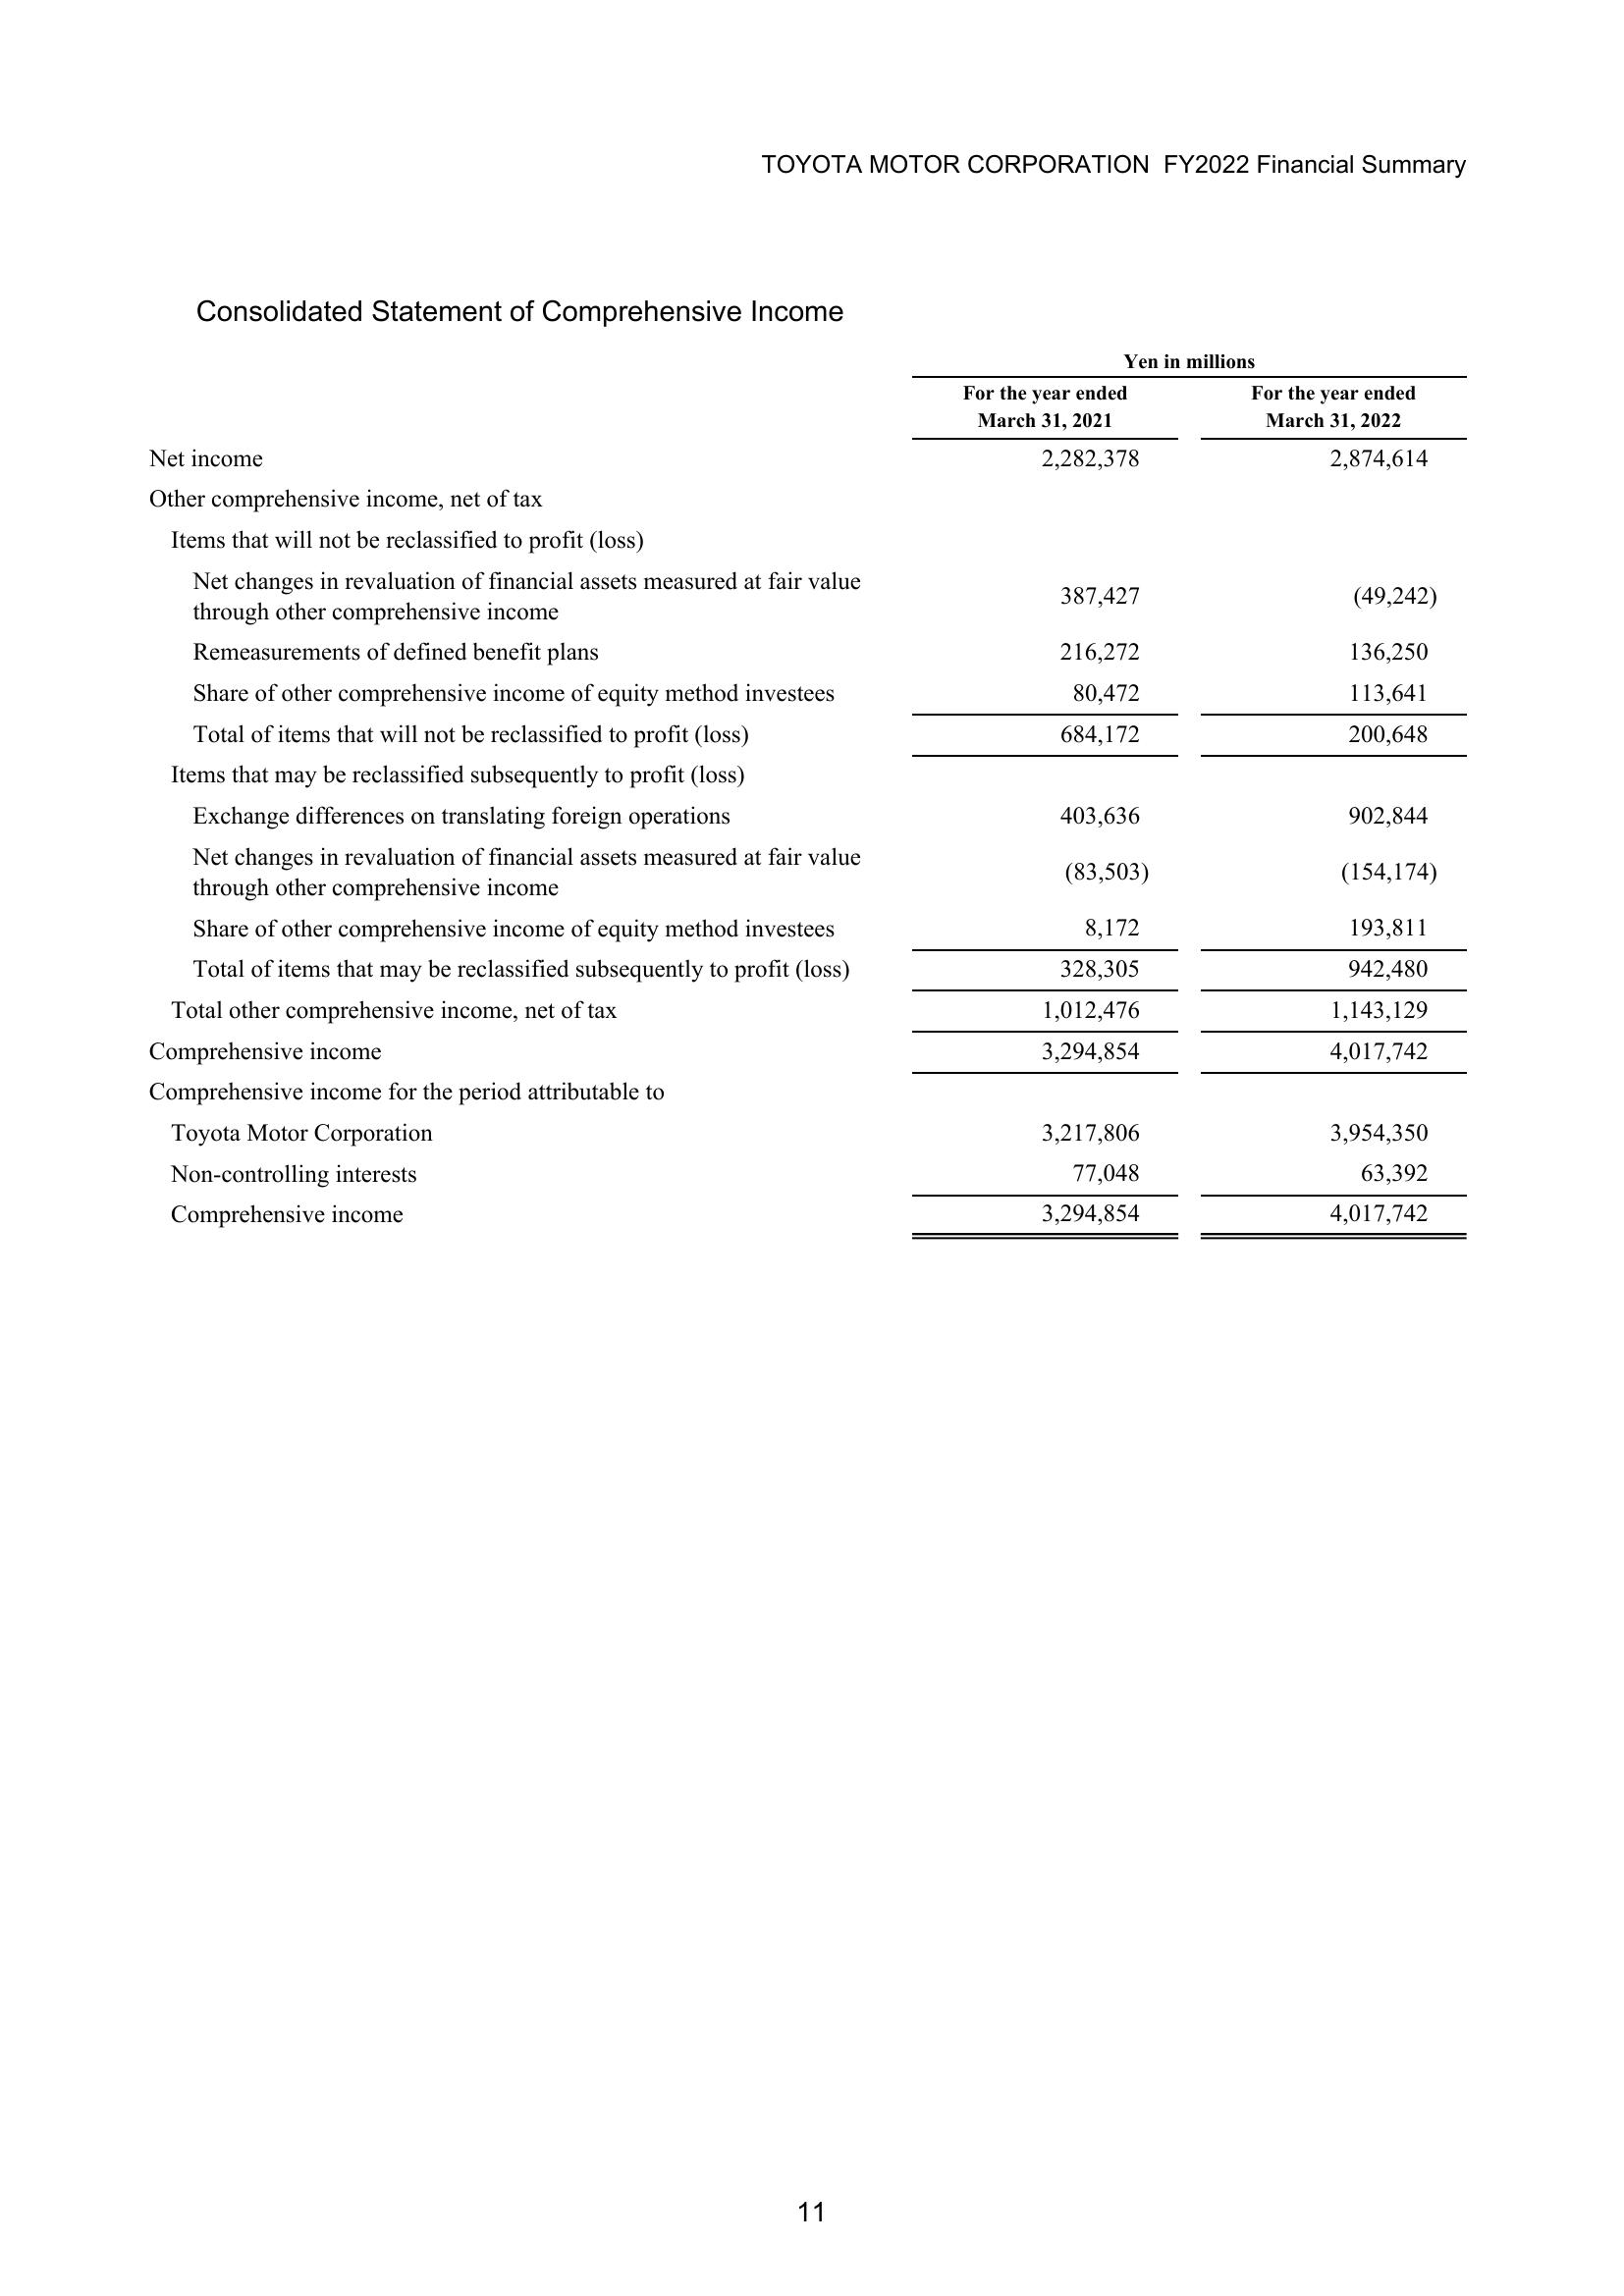Footer: (0, 2170, 1624, 2296)
Header: (0, 0, 1624, 214)
Table: (69, 330, 1487, 1321)
